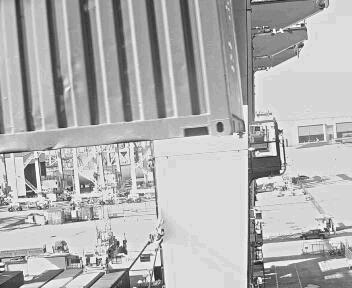twist_lock_1: (95, 171, 195, 239)
